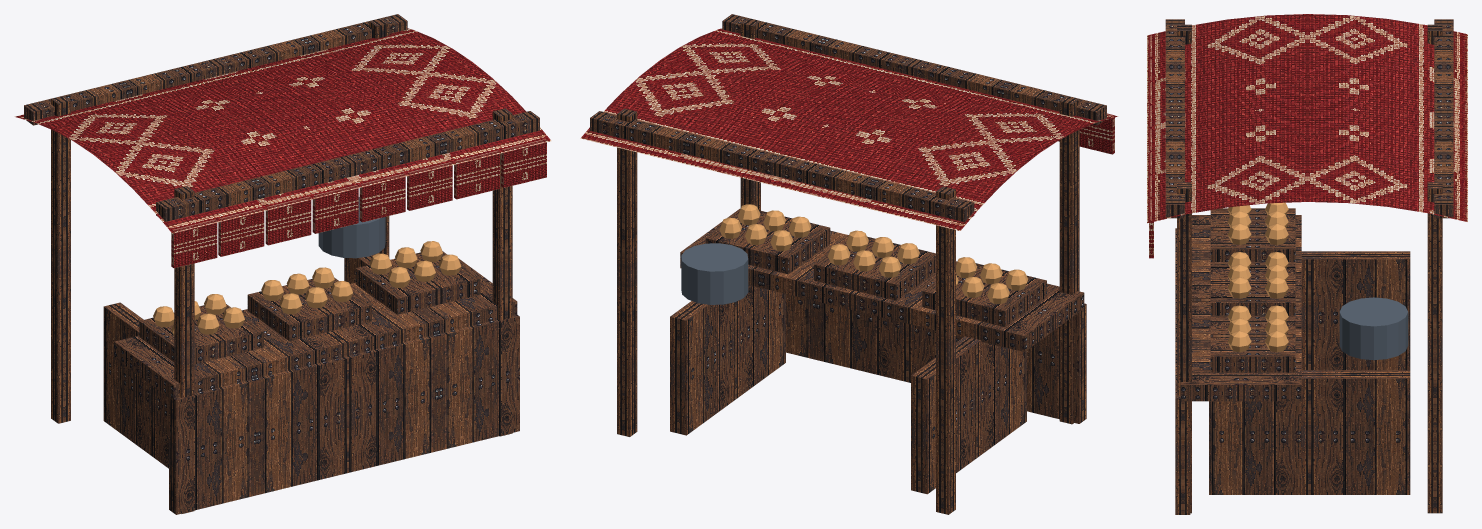
Rendered from food_stall.glb.
The picture shows the model from 3 angles, left to right: view 1: azimuth 30°, elevation 25°; view 2: azimuth 150°, elevation 25°; view 3: azimuth 270°, elevation 25°; orthographic projection.
Visible parts, largest first — view 1: food_stall_canal_wood, food_stall_canal_red, food_stall_canal_produce, food_stall_canal_ceramic; view 2: food_stall_canal_wood, food_stall_canal_red, food_stall_canal_produce, food_stall_canal_ceramic; view 3: food_stall_canal_wood, food_stall_canal_red, food_stall_canal_produce, food_stall_canal_ceramic.
Boxes of the visible parts, x1,y1,x2,y2 form: food_stall_canal_wood: (24, 14, 539, 514); food_stall_canal_red: (14, 28, 551, 268); food_stall_canal_produce: (153, 241, 461, 336); food_stall_canal_ceramic: (318, 197, 385, 258); food_stall_canal_wood: (590, 14, 1106, 514); food_stall_canal_red: (580, 28, 1118, 230); food_stall_canal_produce: (719, 204, 1027, 304); food_stall_canal_ceramic: (681, 243, 748, 304); food_stall_canal_wood: (1165, 19, 1453, 514); food_stall_canal_red: (1147, 14, 1467, 258); food_stall_canal_produce: (1227, 202, 1288, 352); food_stall_canal_ceramic: (1339, 297, 1408, 360).
Bounding box in the file's own units: 2.98 × 2.4 × 2.15.
Materials: 4 (2 with a texture image).
